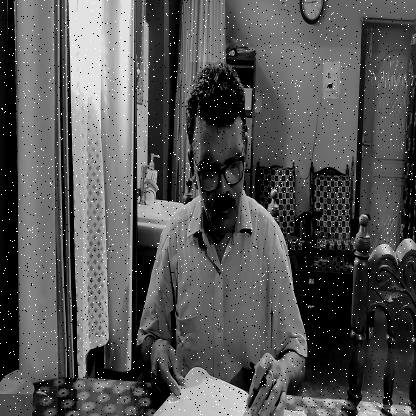Normal: (189, 62, 251, 233)
